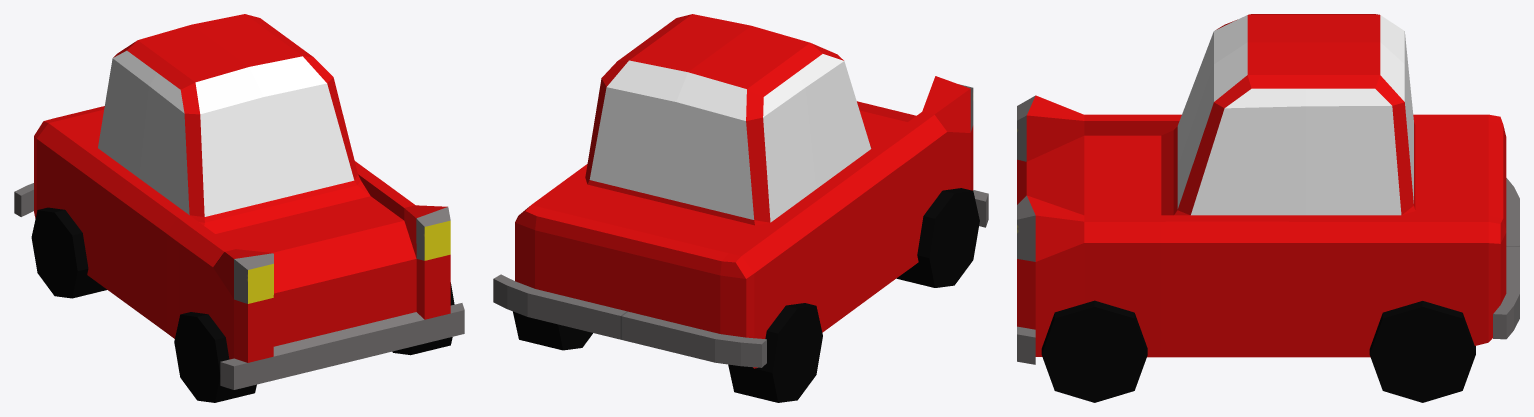
Rendered from Obstale_car_mesh.fbx.
3 views of the same model, side by side, from view 1: azimuth 30°, elevation 25°; view 2: azimuth 150°, elevation 25°; view 3: azimuth 270°, elevation 25° (orthographic). The views are drawn at different scales.
Parts seen in each view (by area): view 1: mobil.fixed.finish; view 2: mobil.fixed.finish; view 3: mobil.fixed.finish.
Boxes of the visible parts, bbox=[...] form: mobil.fixed.finish: bbox=[14, 14, 464, 402]; mobil.fixed.finish: bbox=[493, 14, 988, 402]; mobil.fixed.finish: bbox=[1017, 14, 1519, 402].
Size of the model in its own units: 2.28 by 2.29 by 3.54.
